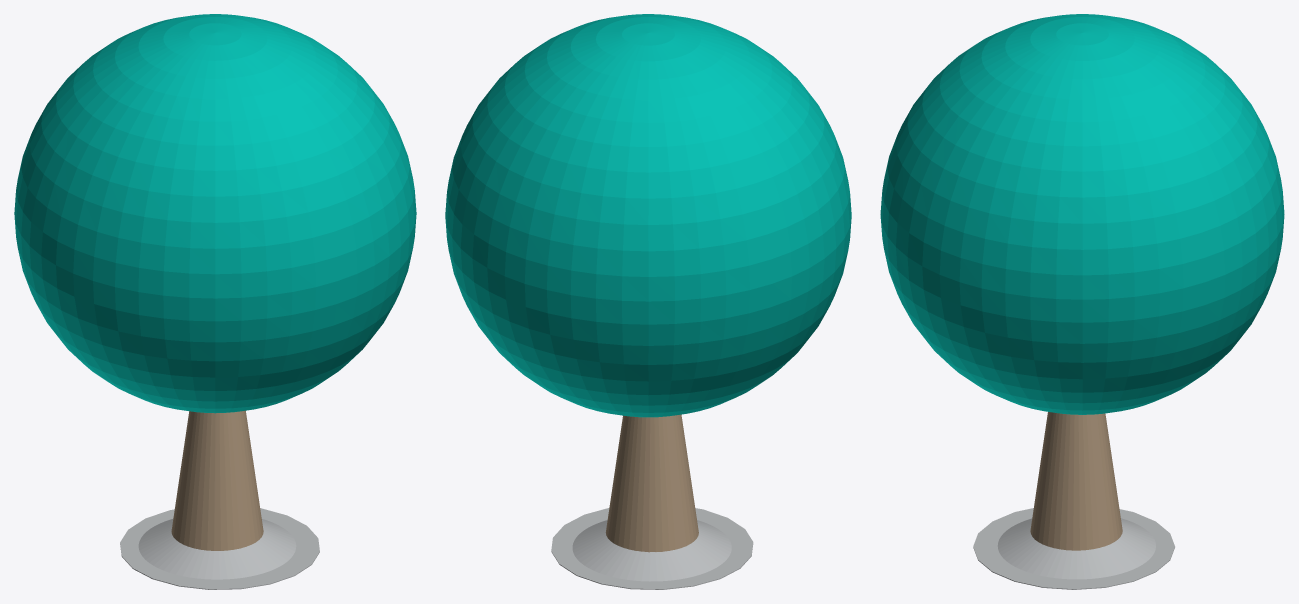
File: SecondaryTreeTorq.glb
The picture shows the model from 3 angles, left to right: view 1: azimuth 30°, elevation 25°; view 2: azimuth 150°, elevation 25°; view 3: azimuth 270°, elevation 25°; orthographic projection.
Parts seen in each view (by area): view 1: Mesh_Mesh_head_geo.001_lambert2SG.001; view 2: Mesh_Mesh_head_geo.001_lambert2SG.001; view 3: Mesh_Mesh_head_geo.001_lambert2SG.001.
Part boxes in pixels (bbox=[...]): Mesh_Mesh_head_geo.001_lambert2SG.001: bbox=[14, 14, 416, 589]; Mesh_Mesh_head_geo.001_lambert2SG.001: bbox=[445, 14, 851, 589]; Mesh_Mesh_head_geo.001_lambert2SG.001: bbox=[880, 14, 1284, 589].
Size of the model in its own units: 5 by 7.02 by 5.
